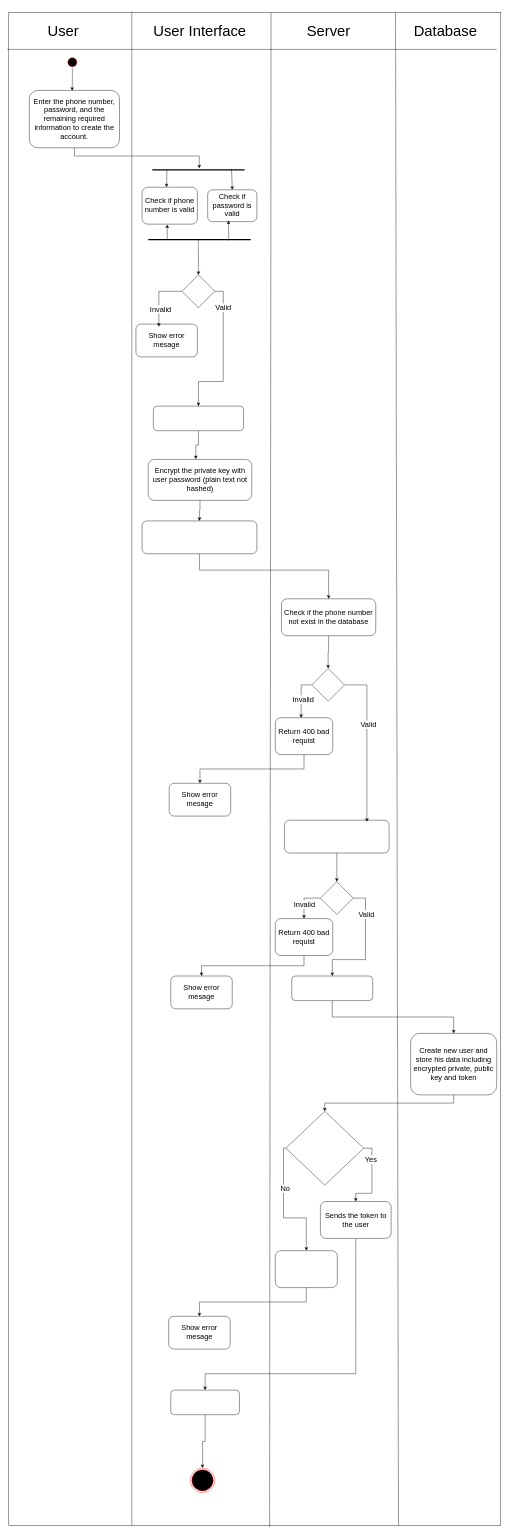
Image size: 508x1535. Some labels were removed from this diagram. The shapes that lost their labels are listed below. From the top down, each one's box as (x1, y1, x2, y2) in pixels, then its label:
(153, 406, 244, 431): Generate the Private and public key
(142, 520, 257, 554): Hash user password with SHA-2 hashing algorithem
(284, 820, 389, 853): Check if the Password is valid
(291, 976, 373, 1001): generate user token
(285, 1111, 364, 1185): Stored Successfuly
(275, 1250, 337, 1288): Return 500 internal server error
(170, 1390, 239, 1415): Store the token
